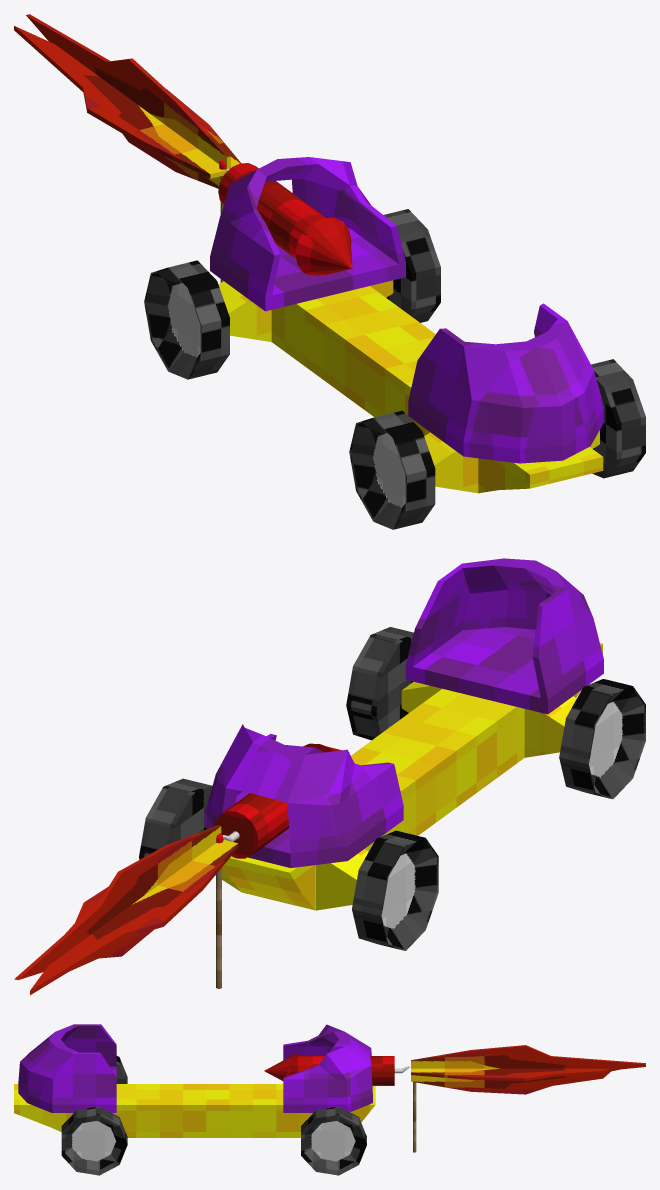
The model's file is RollerSkatesRocket.fbx.
3 renders of one model, top to bottom at view 1: azimuth 30°, elevation 25°; view 2: azimuth 150°, elevation 25°; view 3: azimuth 270°, elevation 25°, orthographic. The views are drawn at different scales.
Parts seen in each view (by area): view 1: FrontPart, Frame, BackPart, FrontWheel, BackWheel, Plane.001, Plane, Rocket; view 2: FrontPart, Frame, BackPart, FrontWheel, BackWheel, Plane.001, Plane, Rocket, Match; view 3: Frame, FrontPart, BackPart, Plane, FrontWheel, BackWheel, Plane.001, Rocket, Match.
Boxes of the visible parts, x1=… form: FrontPart: x1=408, y1=303, x2=604, y2=463; Frame: x1=218, y1=280, x2=603, y2=493; BackPart: x1=210, y1=157, x2=405, y2=311; FrontWheel: x1=349, y1=359, x2=645, y2=529; BackWheel: x1=144, y1=209, x2=440, y2=379; Plane.001: x1=14, y1=26, x2=240, y2=178; Plane: x1=26, y1=14, x2=230, y2=188; Rocket: x1=218, y1=163, x2=352, y2=275; FrontPart: x1=405, y1=558, x2=603, y2=714; Frame: x1=215, y1=643, x2=602, y2=910; BackPart: x1=205, y1=724, x2=403, y2=867; FrontWheel: x1=346, y1=627, x2=645, y2=799; BackWheel: x1=139, y1=778, x2=438, y2=950; Plane.001: x1=30, y1=839, x2=238, y2=995; Plane: x1=14, y1=825, x2=221, y2=979; Rocket: x1=214, y1=743, x2=349, y2=858; Match: x1=216, y1=833, x2=223, y2=988; Frame: x1=14, y1=1084, x2=375, y2=1137; FrontPart: x1=18, y1=1024, x2=116, y2=1112; BackPart: x1=283, y1=1024, x2=372, y2=1112; Plane: x1=411, y1=1045, x2=645, y2=1094; FrontWheel: x1=61, y1=1056, x2=127, y2=1175; BackWheel: x1=301, y1=1106, x2=366, y2=1175; Plane.001: x1=411, y1=1064, x2=645, y2=1080; Rocket: x1=264, y1=1052, x2=410, y2=1085; Match: x1=413, y1=1082, x2=416, y2=1152.
Size of the model in its own units: 58.31 by 44.79 by 228.
Materials: 9 (9 with a texture image).
